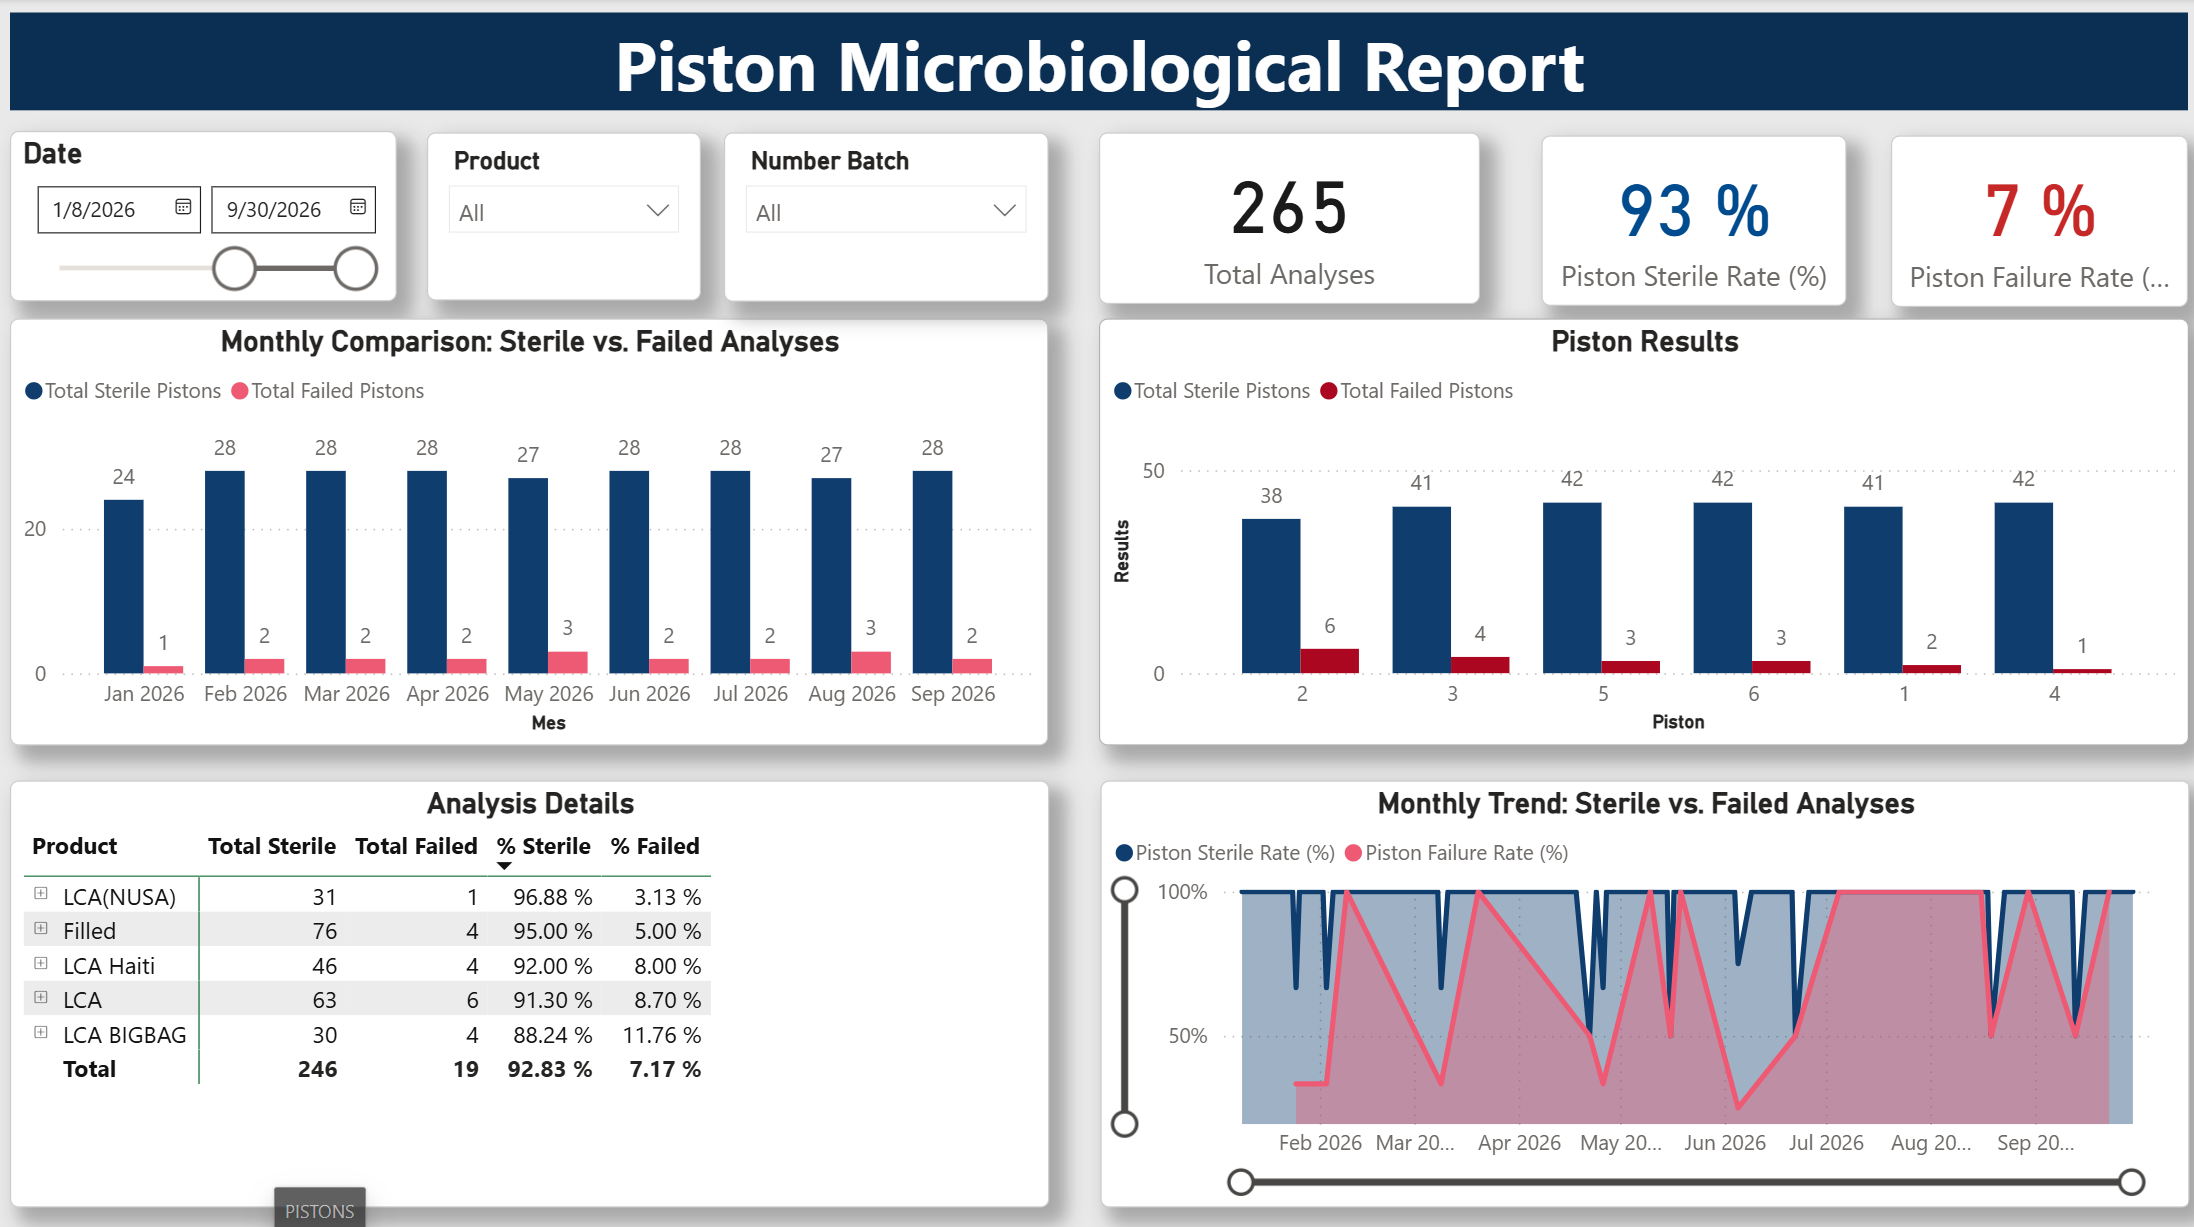

Layout of this report page (visuals, bound fields, positions):
{"tool":"powerbi","page":{"name":"PISTONS","canvas":[1280,720],"ordinal":1},"visuals":[{"type":"shape","box":[8.9,7.8,1262.2,56.7],"z":0},{"type":"slicer","title":"Date","fields":{"Values":["Dim_Fecha.Date"]},"box":[8.8,76.2,223.8,98.8],"z":2000},{"type":"slicer","fields":{"Values":["DimProducto.Producto"]},"box":[250,77.5,158.8,97.5],"z":3000},{"type":"clusteredColumnChart","title":"Monthly Comparison: Sterile vs. Failed Analyses","fields":{"Category":["Dim_Fecha.Mes-Año"],"Y":["Pistones.Total Estériles Pistones","Pistones.Total Estropeados Pistones"]},"box":[9.1,185,601.2,247.6],"z":4000},{"type":"card","fields":{"Values":["Pistones.Total Análisis con Gérmenes Pistones"]},"box":[639.7,77,220.8,99.6],"z":5000},{"type":"card","fields":{"Values":["Pistones.% Estériles Pistones"]},"box":[896,79.2,176.8,98.5],"z":6000},{"type":"card","fields":{"Values":["Pistones.% Estropeado Pistones"]},"box":[1098.6,79.2,172.2,99.5],"z":7000},{"type":"areaChart","title":"Monthly Trend: Sterile vs. Failed Analyses","fields":{"Category":["Dim_Fecha.Date.Variación.Date Hierarchy.Year","Dim_Fecha.Date.Variación.Date Hierarchy.Month","Dim_Fecha.Date.Variación.Date Hierarchy.Day"],"Y":["Pistones.% Estériles Mes Pistones","Pistones.% Estropeados Mes Pistones"]},"box":[640,453,631,247],"z":8000},{"type":"clusteredColumnChart","title":"Piston Results","fields":{"Category":["Pistones.Piston"],"Y":["Pistones.Total Estériles Pistones","Pistones.Total Estropeados Pistones"]},"box":[639.7,184.8,631.4,247.4],"z":9000},{"type":"pivotTable","title":"Analysis Details","fields":{"Rows":["Pistones.Producto","Pistones.Lote","Pistones.Piston"],"Values":["Pistones.Total Estériles Pistones","Pistones.Total Estropeados Pistones","Pistones.% Estériles Pistones","Pistones.% Estropeado Pistones"]},"box":[9,453,602,247],"z":10000},{"type":"slicer","fields":{"Values":["Pistones.Lote"]},"box":[422.6,77.1,187.7,97.9],"z":11000}]}

Visuals, with their boxes in screenshot pixels (x1, y1, x2, y2), scaled from the page's 1280x720 canvas onto the 2194x1227 screenshot:
shape: (x1=15, y1=13, x2=2179, y2=110)
"Date" slicer: (x1=15, y1=130, x2=399, y2=298)
slicer - DimProducto.Producto: (x1=429, y1=132, x2=701, y2=298)
"Monthly Comparison: Sterile vs. Failed Analyses" clusteredColumnChart: (x1=16, y1=315, x2=1046, y2=737)
card - Pistones.Total Análisis con Gérmenes Pistones: (x1=1096, y1=131, x2=1475, y2=301)
card - Pistones.% Estériles Pistones: (x1=1536, y1=135, x2=1839, y2=303)
card - Pistones.% Estropeado Pistones: (x1=1883, y1=135, x2=2178, y2=305)
"Monthly Trend: Sterile vs. Failed Analyses" areaChart: (x1=1097, y1=772, x2=2179, y2=1193)
"Piston Results" clusteredColumnChart: (x1=1096, y1=315, x2=2179, y2=737)
"Analysis Details" pivotTable: (x1=15, y1=772, x2=1047, y2=1193)
slicer - Pistones.Lote: (x1=724, y1=131, x2=1046, y2=298)
